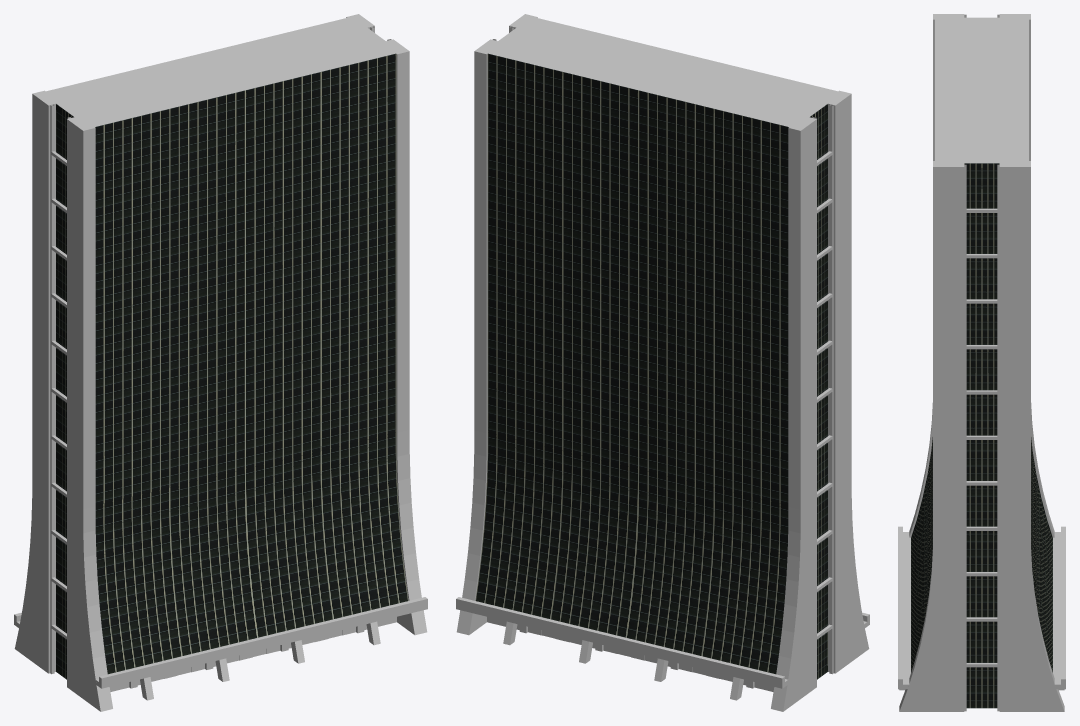
The picture shows the model from 3 angles, left to right: view 1: azimuth 30°, elevation 25°; view 2: azimuth 150°, elevation 25°; view 3: azimuth 270°, elevation 25°; orthographic projection. The views are drawn at different scales.
Visible parts, largest first — view 1: BC-028; view 2: BC-028; view 3: BC-028.
Boxes of the visible parts, x1=… form: BC-028: x1=14, y1=14, x2=427, y2=711; BC-028: x1=456, y1=14, x2=869, y2=711; BC-028: x1=898, y1=14, x2=1065, y2=711.
Size of what is drawn, in the model's own units: 64.95 by 108 by 30.15.
